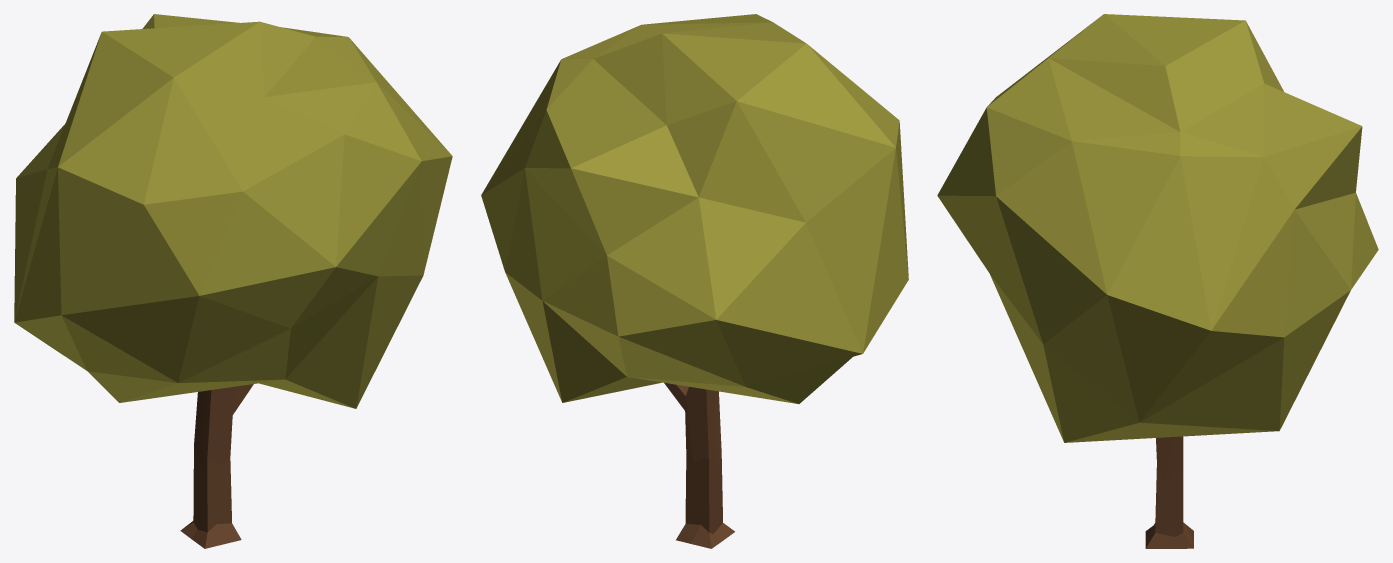
Rendered from Tree_13_Yellow.fbx.
3 renders of one model, left to right at view 1: azimuth 30°, elevation 25°; view 2: azimuth 150°, elevation 25°; view 3: azimuth 270°, elevation 25°, orthographic. The views are drawn at different scales.
Parts seen in each view (by area): view 1: Tree_13_Yellow_Part_1, Tree_13_Yellow_Part_2; view 2: Tree_13_Yellow_Part_1, Tree_13_Yellow_Part_2; view 3: Tree_13_Yellow_Part_1, Tree_13_Yellow_Part_2.
Boxes of the visible parts, x1,y1,x2,y2 form: Tree_13_Yellow_Part_1: [14, 14, 452, 408]; Tree_13_Yellow_Part_2: [180, 384, 253, 548]; Tree_13_Yellow_Part_1: [481, 14, 908, 403]; Tree_13_Yellow_Part_2: [664, 382, 734, 548]; Tree_13_Yellow_Part_1: [937, 14, 1378, 442]; Tree_13_Yellow_Part_2: [1145, 436, 1193, 548].
Size of the model in its own units: 643 by 796 by 641.
